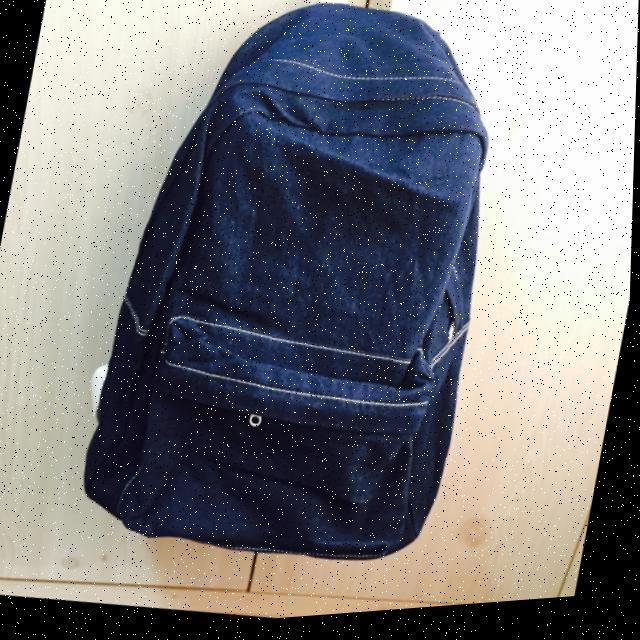backpack: (38, 0, 547, 623)
